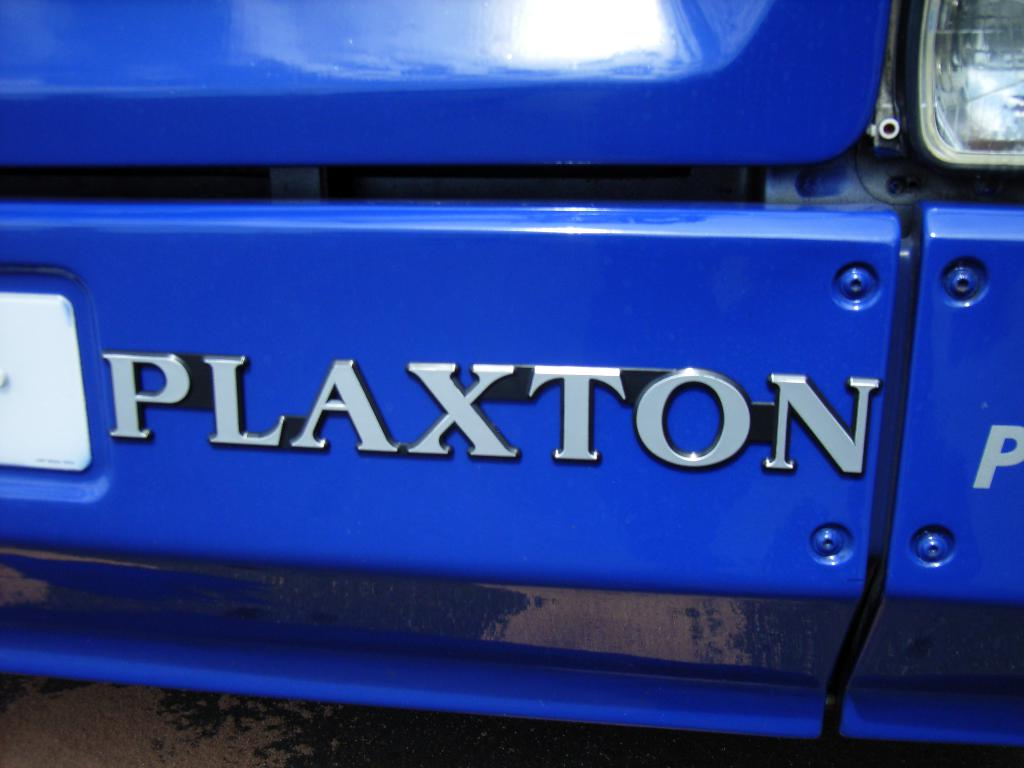Car: (1, 0, 1023, 748)
